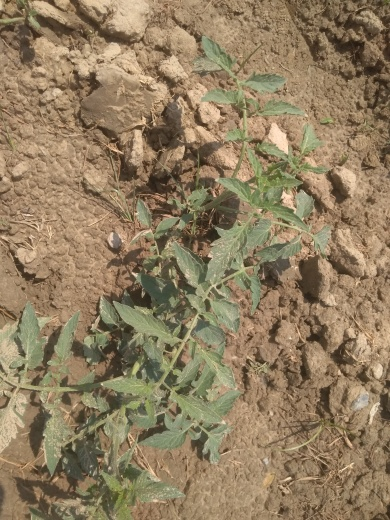tomato diseased leaf: (206, 219, 268, 282)
tomato plant: (129, 37, 315, 444)
